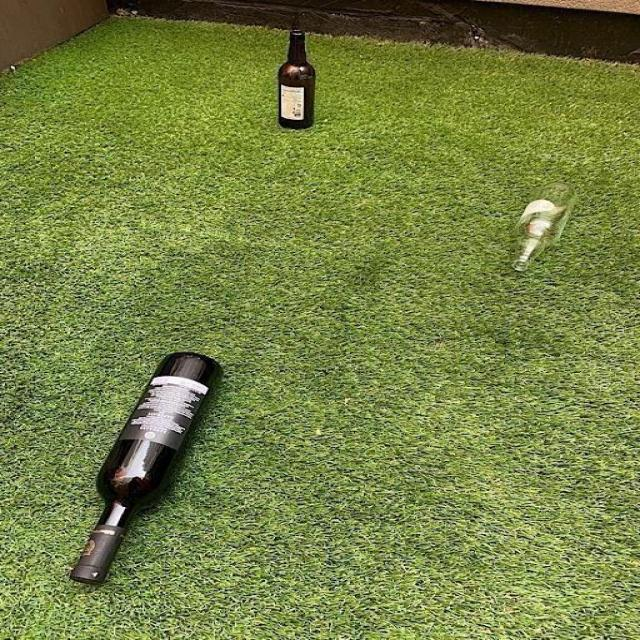bottle-glass: (70, 349, 222, 584), (512, 179, 576, 272), (276, 29, 318, 129)
